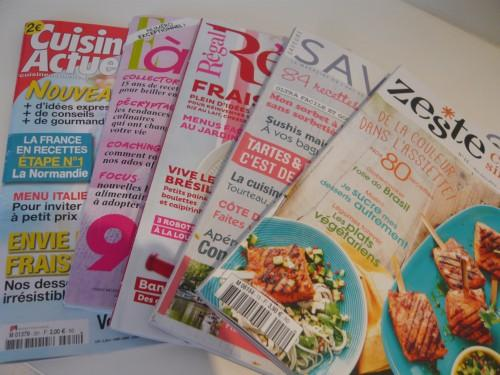paper: (0, 16, 500, 375)
